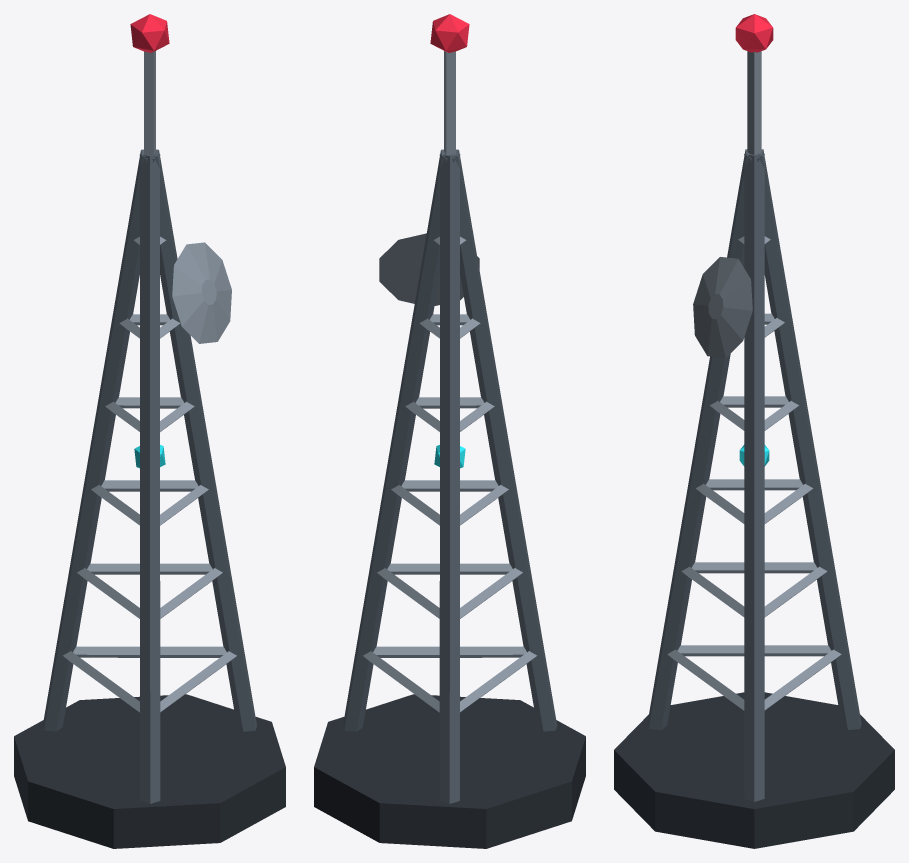
Rendered from AntennaTower.fbx.
The picture shows the model from 3 angles, left to right: view 1: azimuth 30°, elevation 25°; view 2: azimuth 150°, elevation 25°; view 3: azimuth 270°, elevation 25°; orthographic projection.
Visible parts, largest first — view 1: AntennaTower, AntennaTower_Glow; view 2: AntennaTower, AntennaTower_Glow; view 3: AntennaTower, AntennaTower_Glow.
Part boxes in pixels (x1=…): AntennaTower: x1=14, y1=51, x2=285, y2=848; AntennaTower_Glow: x1=130, y1=14, x2=169, y2=468; AntennaTower: x1=314, y1=51, x2=585, y2=848; AntennaTower_Glow: x1=430, y1=14, x2=469, y2=468; AntennaTower: x1=614, y1=51, x2=894, y2=848; AntennaTower_Glow: x1=735, y1=14, x2=773, y2=466.
Bounding box in the file's own units: 320 × 975 × 320.
1 material, 1 textured.
